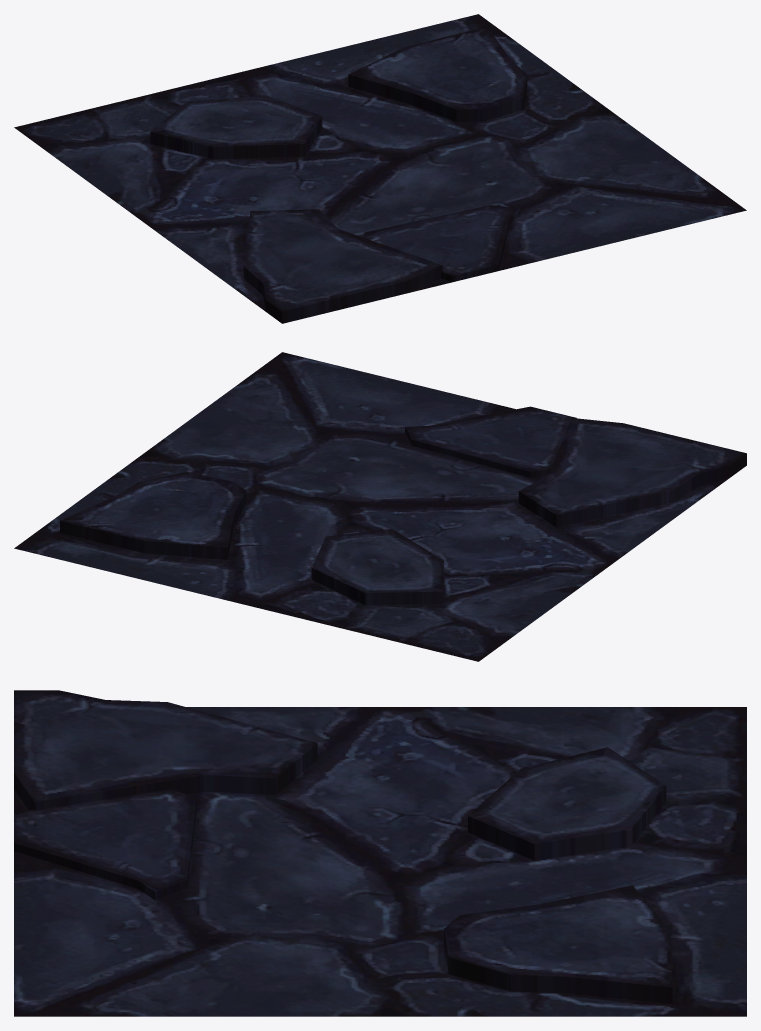
Rendered from palace_floor_blank_04.fbx.
3 views of the same model, one above another, from view 1: azimuth 30°, elevation 25°; view 2: azimuth 150°, elevation 25°; view 3: azimuth 270°, elevation 25° (orthographic). The views are drawn at different scales.
Parts seen in each view (by area): view 1: palace_tileset/palace_floor01_shadow_mat; view 2: palace_tileset/palace_floor01_shadow_mat; view 3: palace_tileset/palace_floor01_shadow_mat.
Part boxes in pixels (left/top/right/bottom): palace_tileset/palace_floor01_shadow_mat: left=14, top=14, right=746, bottom=323; palace_tileset/palace_floor01_shadow_mat: left=14, top=352, right=746, bottom=661; palace_tileset/palace_floor01_shadow_mat: left=14, top=690, right=746, bottom=1016.
Size of the model in its own units: 4 by 0.1 by 4.
